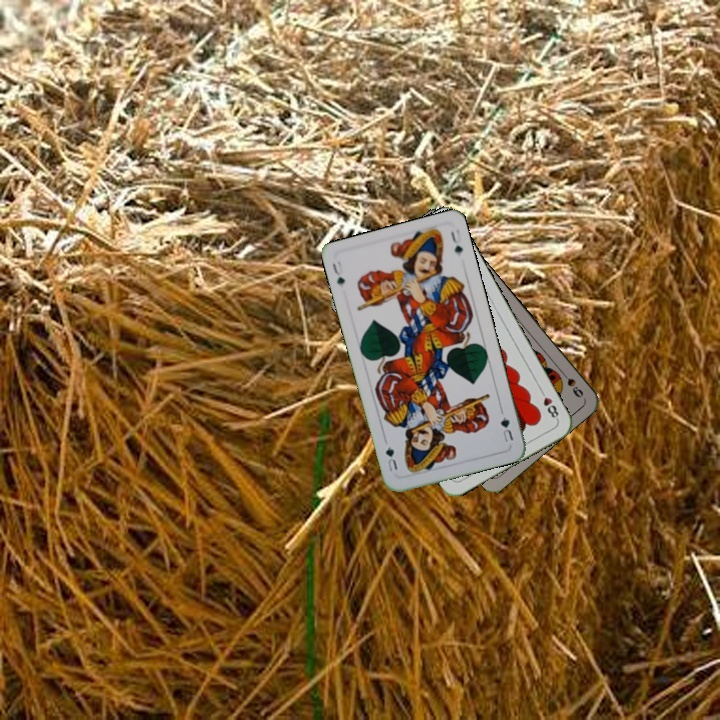GU: (496, 406, 516, 445), (328, 257, 348, 288)
H8: (536, 385, 561, 423)
S9: (556, 366, 586, 400)
